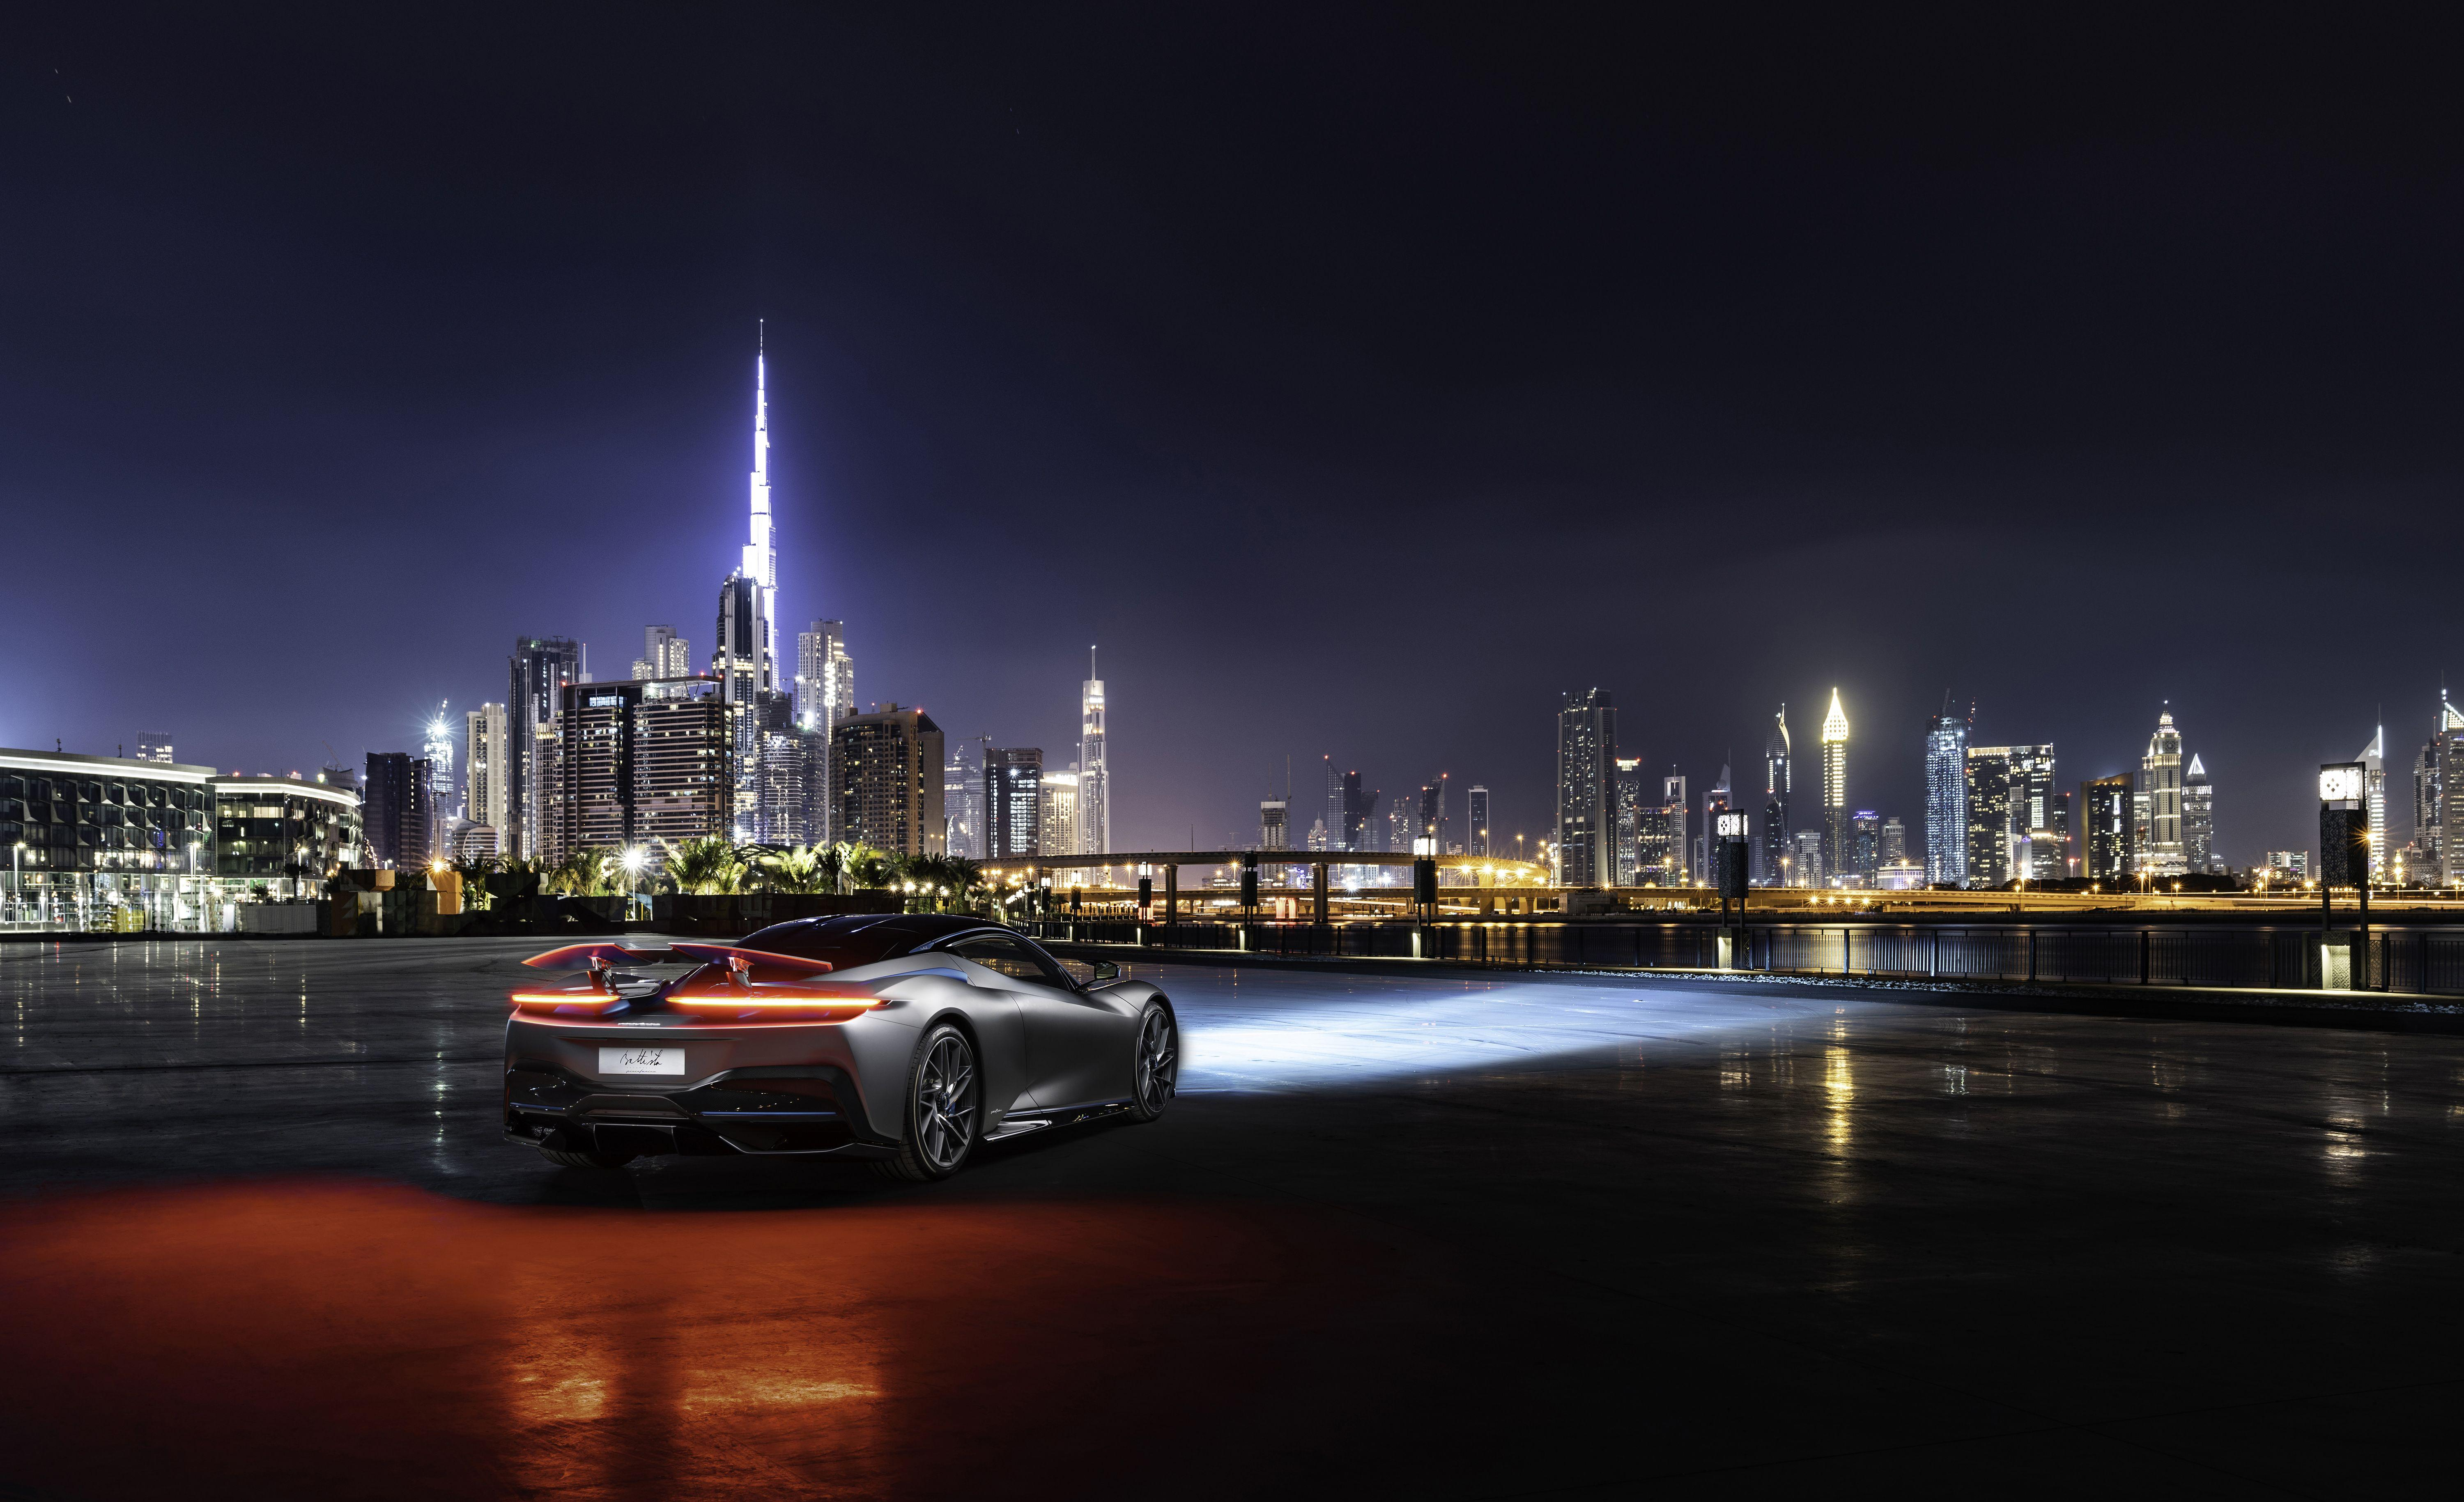Car: (382, 817, 1353, 1277)
